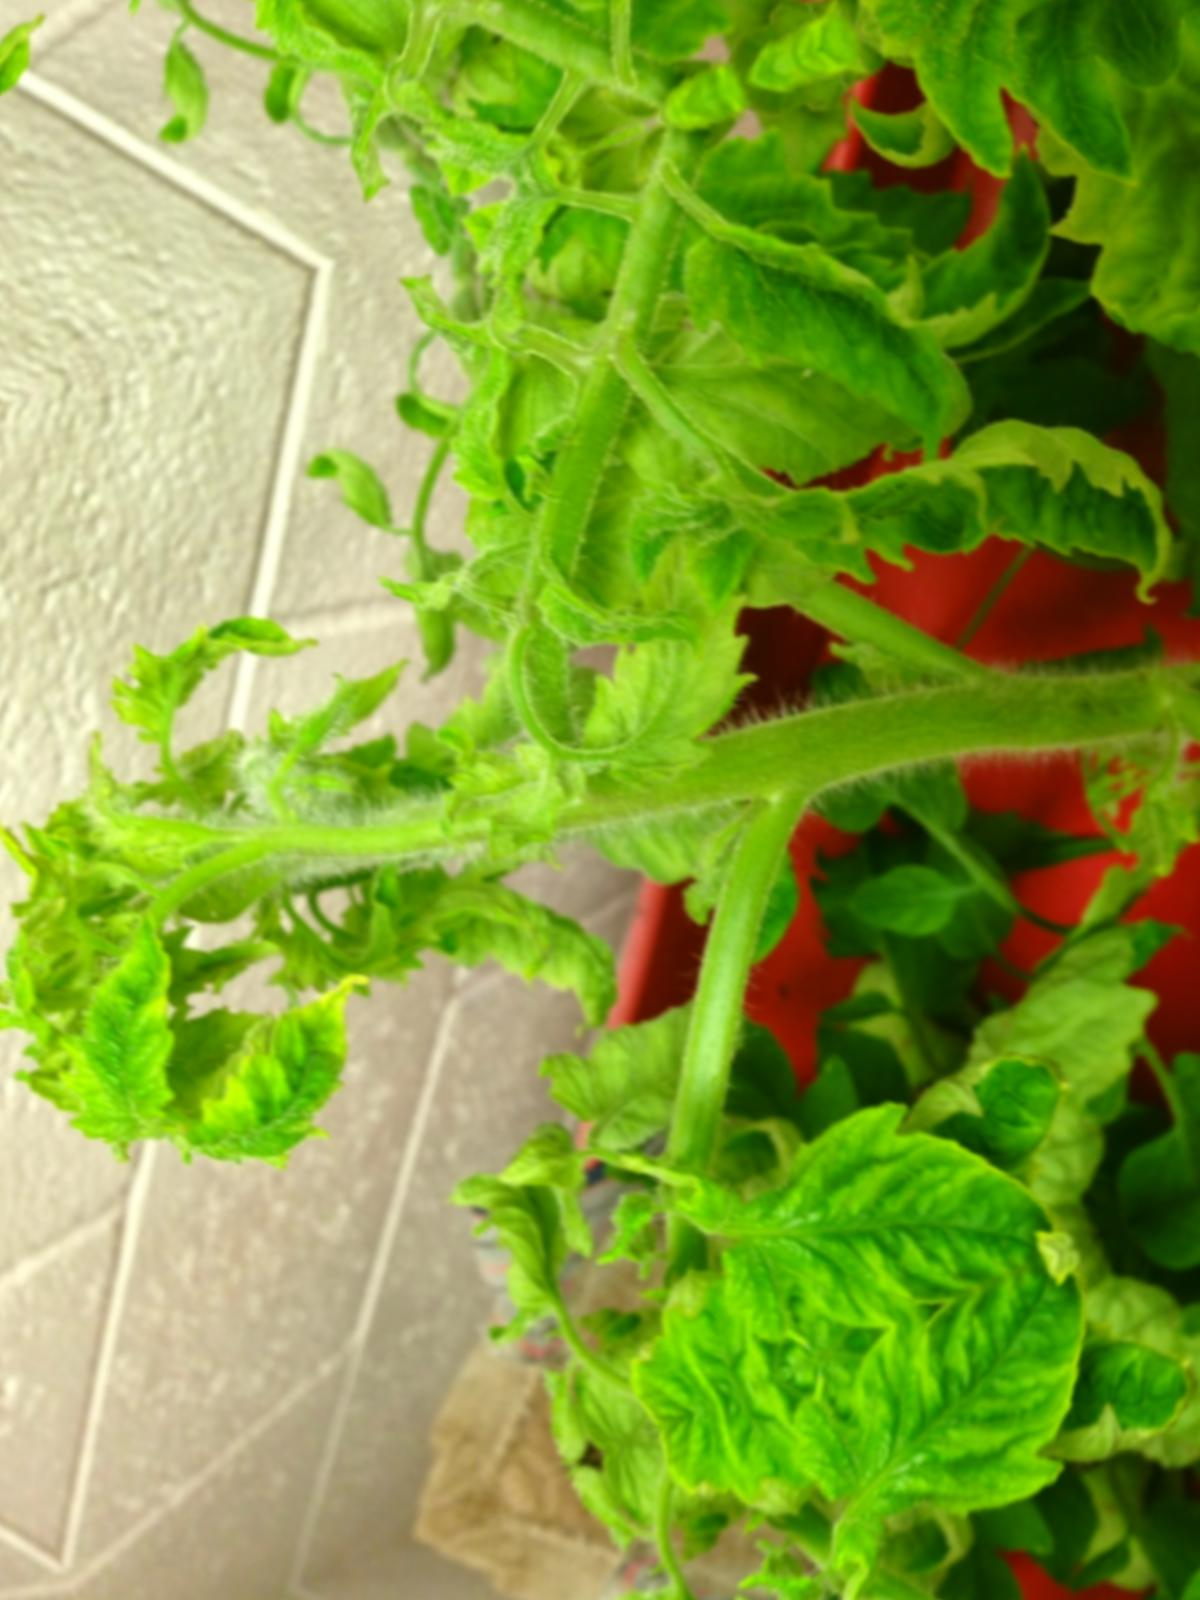Tomato leaf yellow virus: (731, 333, 1200, 731), (639, 1032, 1070, 1396), (640, 117, 1001, 509), (139, 931, 458, 1206), (505, 542, 794, 811), (0, 888, 258, 1163)
